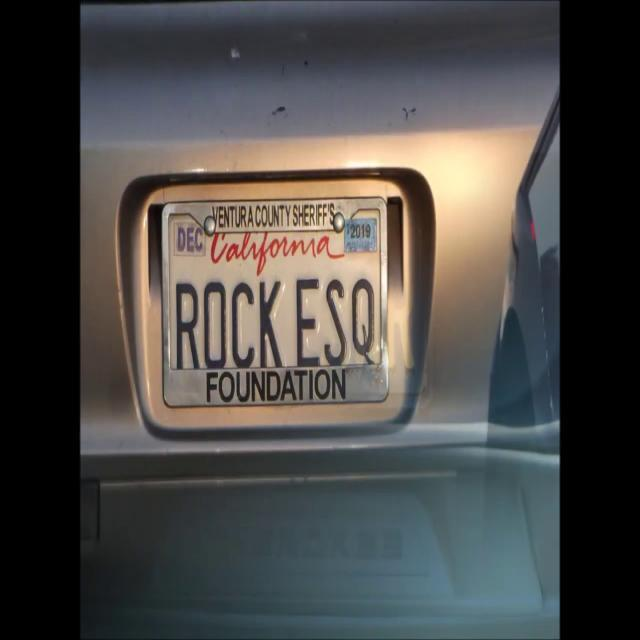LicensePlate: (162, 199, 391, 402)
